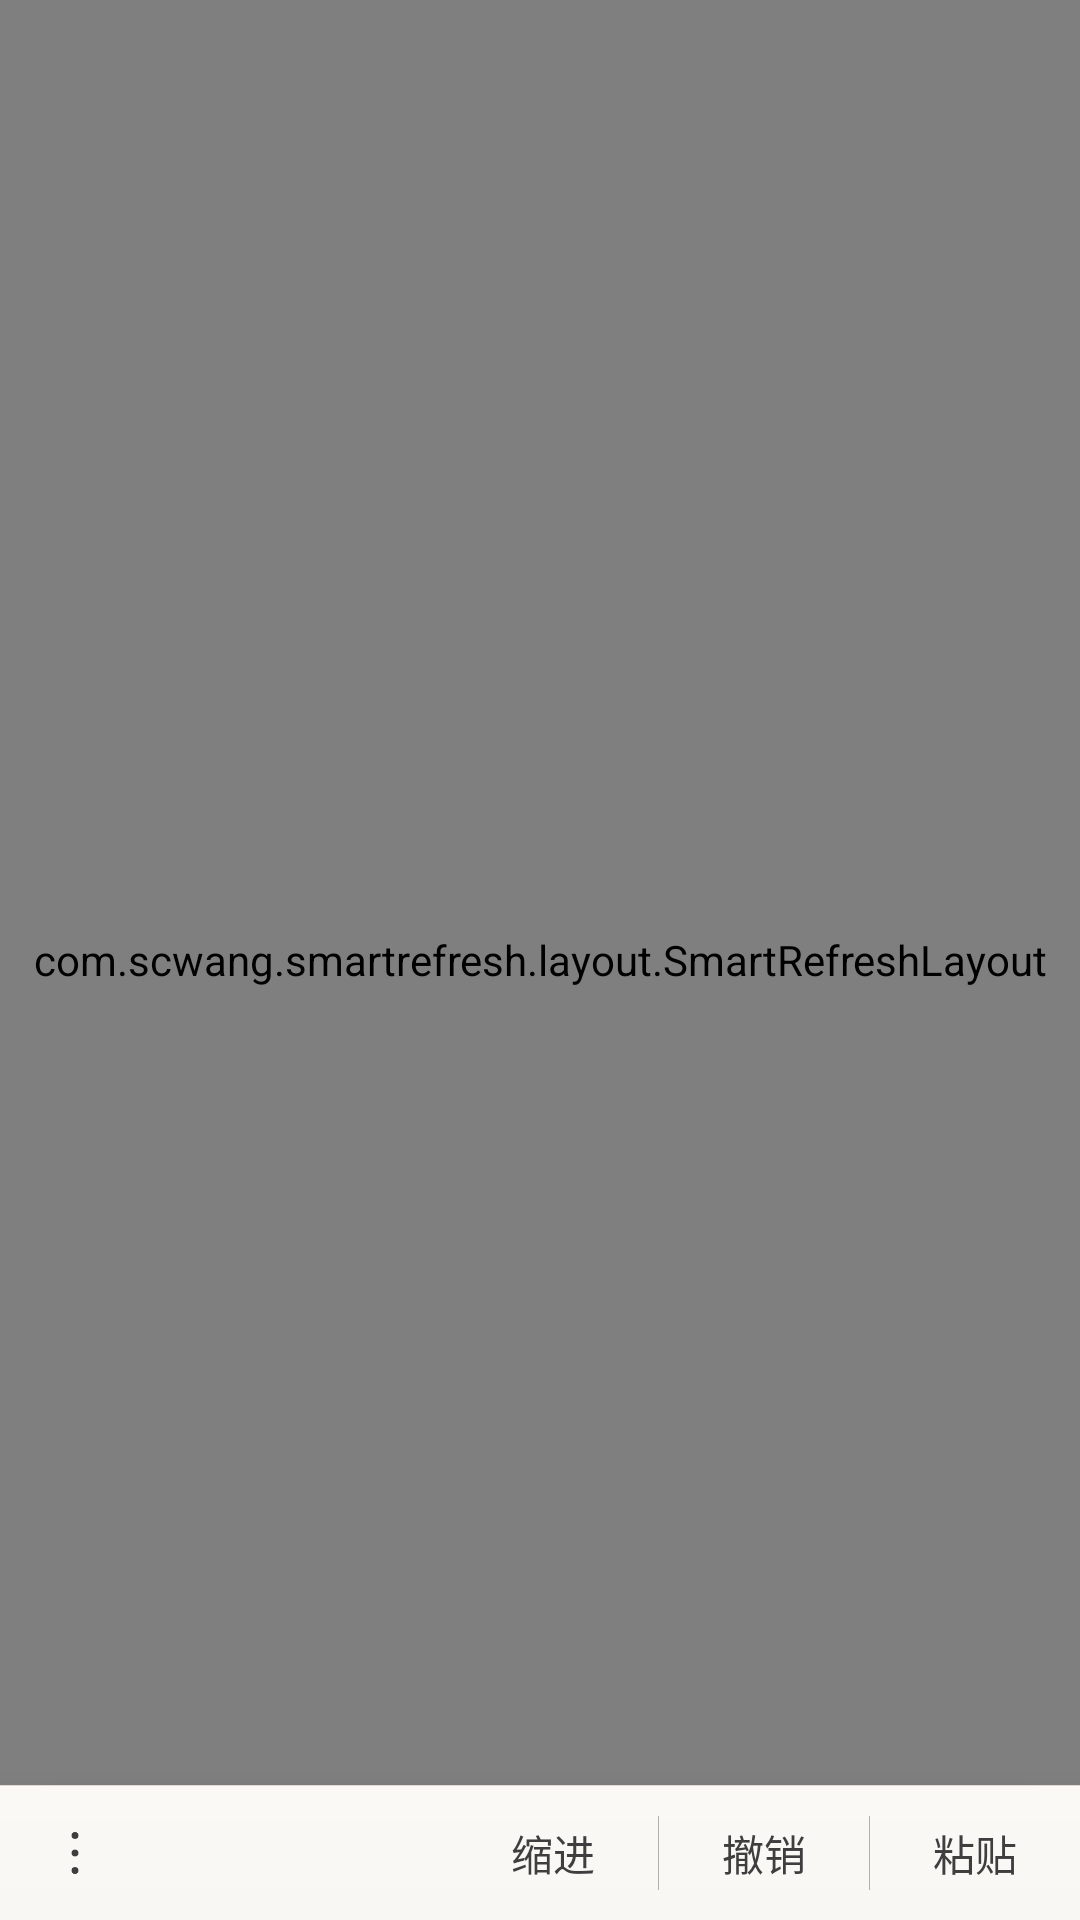

Screen size 1080px×1920px. Icon name, then its box in pixels as [left=x1, top=y1, right=x2, bottom=y2]:
more: [left=71, top=1832, right=79, bottom=1874]
